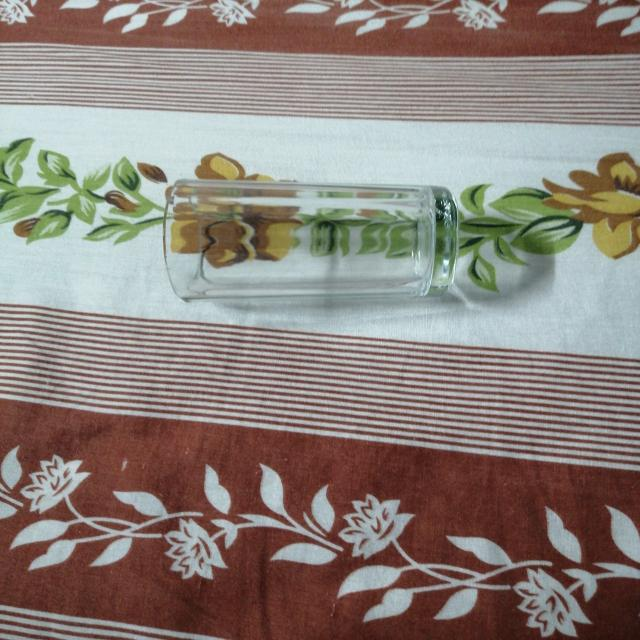Glass: (158, 177, 464, 306)
